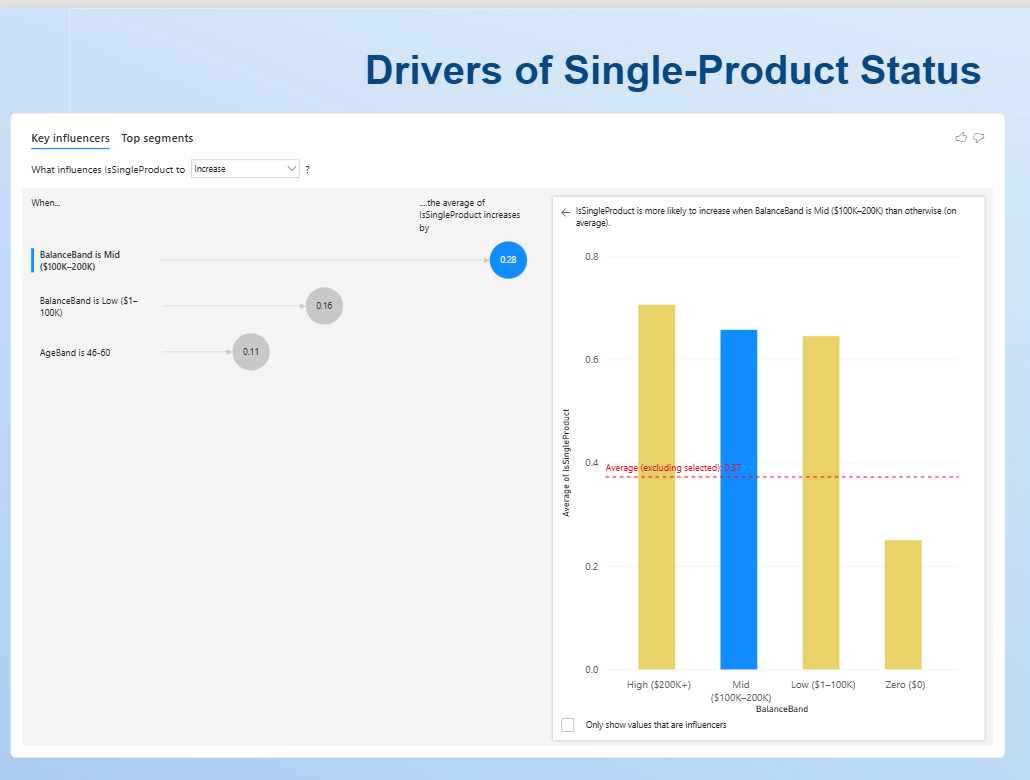

What the dashboard file says about the page in this screenshot:
{"tool":"powerbi","page":{"name":"Drivers of Single-Product Status","canvas":[1920,1080],"ordinal":2},"visuals":[{"type":"textbox","box":[100,0,1686.4,147.5],"z":0},{"type":"keyDriversVisual","fields":{"Target":["bank_customers.IsSingleProduct"],"ExplainBy":["bank_customers.BalanceBand","bank_customers.AgeBand","bank_customers.IsActiveMember","bank_customers.Geography"]},"box":[17.5,147.4,1387.7,900],"z":1000},{"type":"aiNarratives","box":[1463.2,171.9,380.7,493],"z":1001}]}

Visuals, with their boxes on the page's 1920x1080 design canvas (x1, y1, x2, y2). These are canvas units, not pixel positions in the 1030x780 screenshot, which may show the page scaled, cropped or inside an application window:
textbox: select_region(100, 0, 1786, 148)
keyDriversVisual - bank_customers.IsSingleProduct x bank_customers.BalanceBand: select_region(18, 147, 1405, 1047)
aiNarratives: select_region(1463, 172, 1844, 665)
